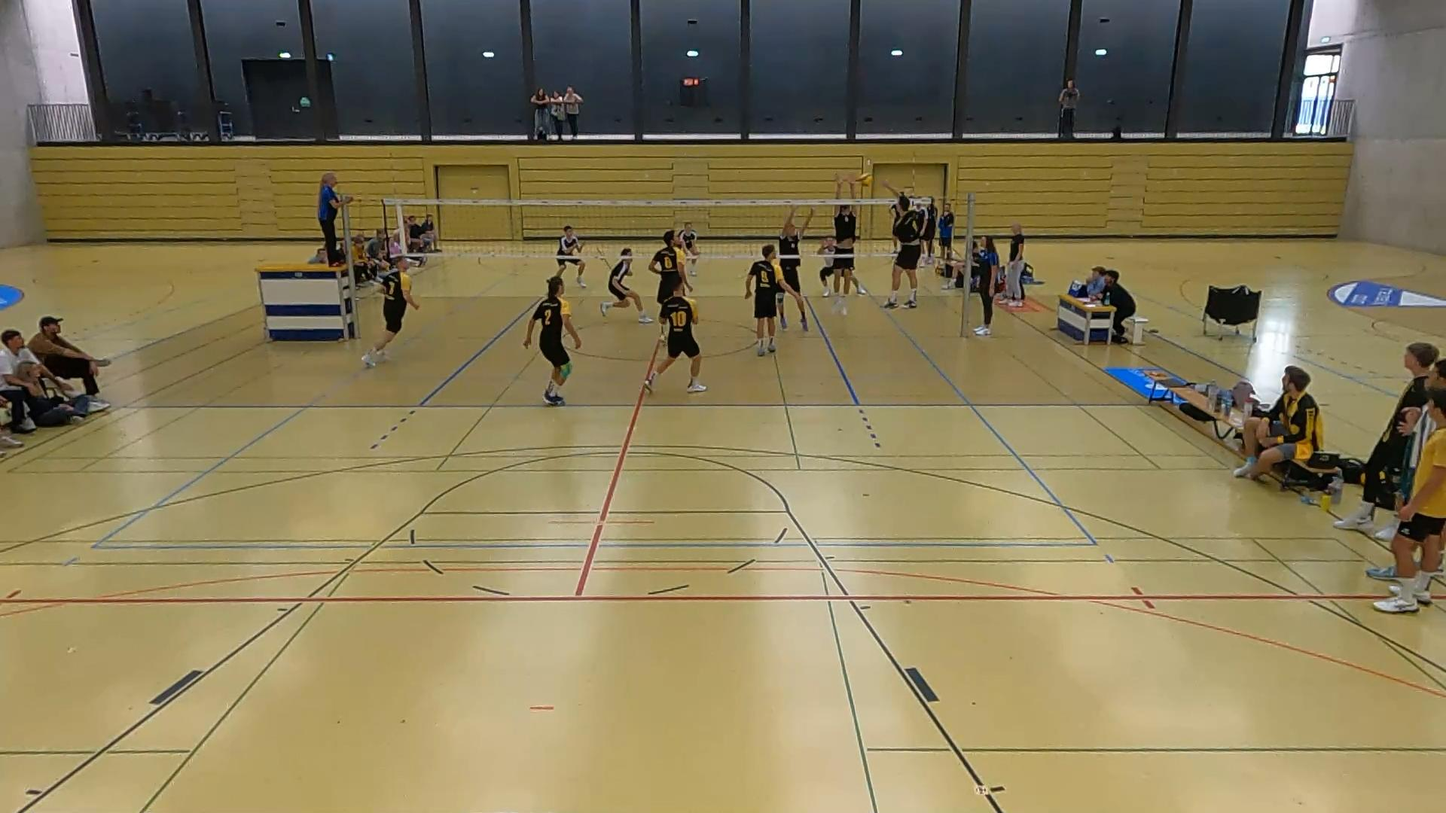Attack: (881, 184, 949, 315)
Block: (773, 197, 819, 340), (831, 170, 863, 323)
Player: (523, 276, 581, 405), (644, 282, 706, 392), (745, 244, 802, 355), (362, 257, 419, 367), (601, 248, 652, 323), (648, 230, 691, 306), (557, 225, 585, 288), (816, 236, 835, 297), (679, 221, 700, 275)
ball: (857, 168, 871, 189)
